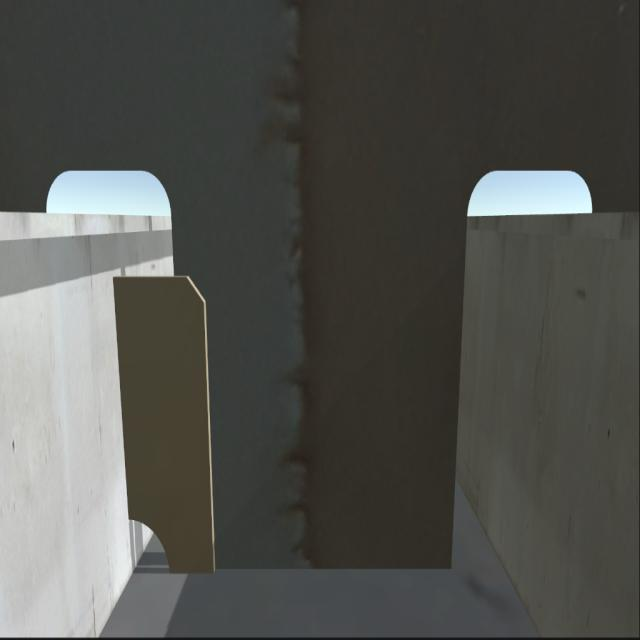fillet_hole: (128, 519, 170, 573)
fillet_yong_jeop_jang: (150, 554, 461, 586)
longi_yong_jeop_jang: (117, 271, 132, 537)
plate_CP03: (120, 264, 212, 575)
